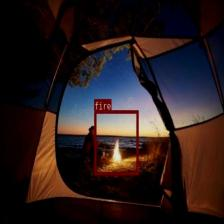fire: (94, 110, 138, 175)
